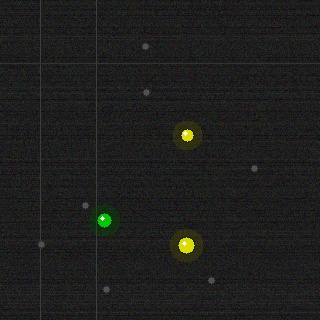green_normal: (95, 211, 113, 229)
yellow_warning: (176, 235, 196, 255), (179, 127, 195, 143)
